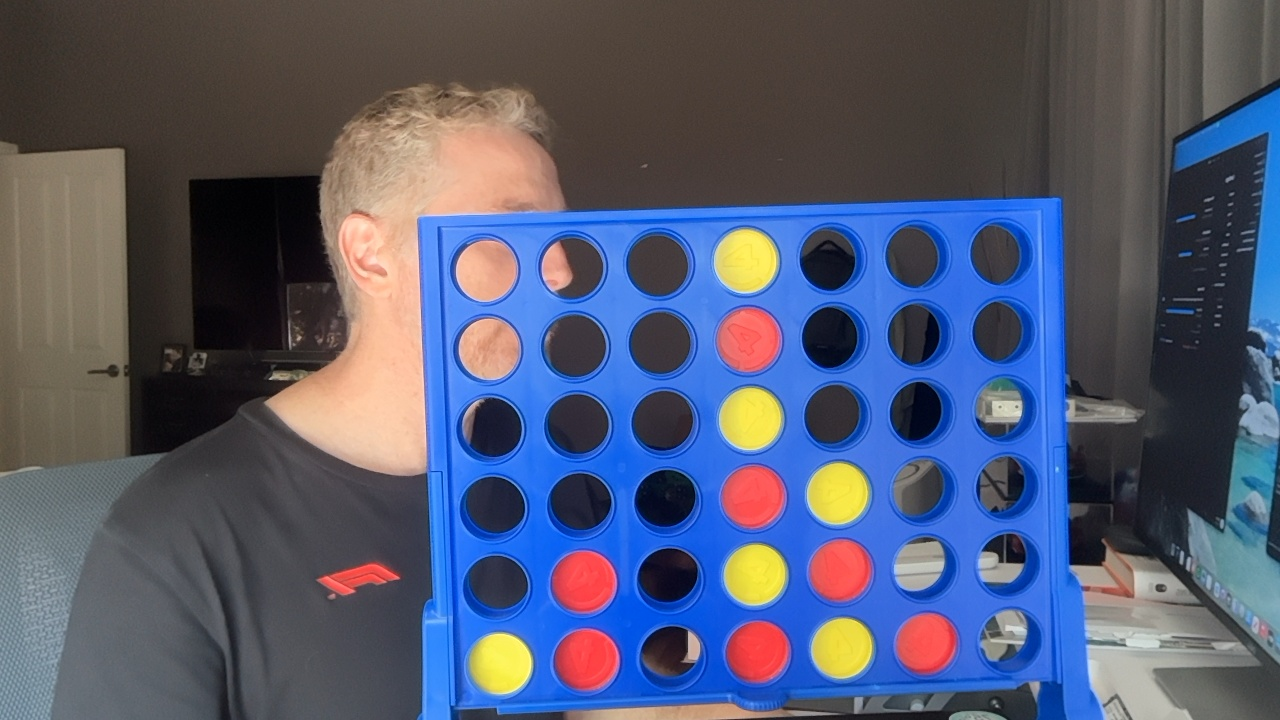red piece: (716, 307, 781, 372), (721, 465, 785, 529), (554, 629, 619, 691), (551, 551, 616, 613), (808, 539, 871, 602), (726, 621, 789, 683), (895, 613, 957, 674)
yellow piece: (714, 228, 778, 294), (719, 386, 782, 451), (467, 632, 532, 695), (723, 543, 787, 606), (807, 461, 869, 526), (810, 617, 873, 680)
